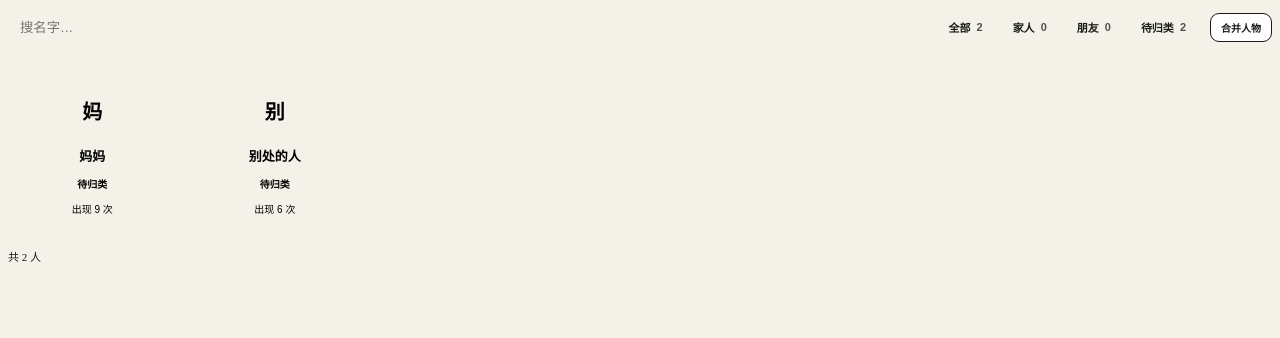
Test case: 名录批量合并 › 跨相册的人不能一起合并
What coordinates should you click on to do the following:
click the button "合并人物"
I would click on:
 (1241, 27)
Its box is left=1210, top=12, right=1272, bottom=42.
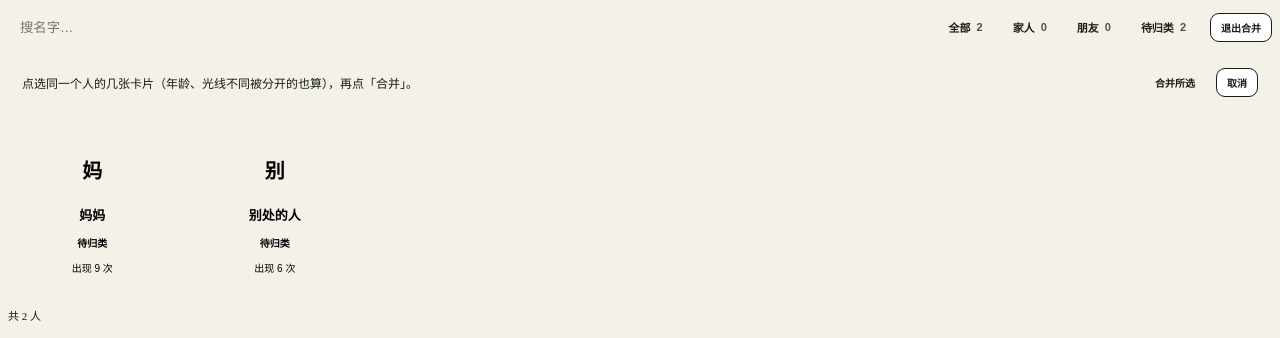
What coordinates should you click on to do the following:
click the button "妈 妈妈 待归类 出现 9 次"
I would click on:
 (92, 208)
Its box is left=8, top=123, right=177, bottom=293.
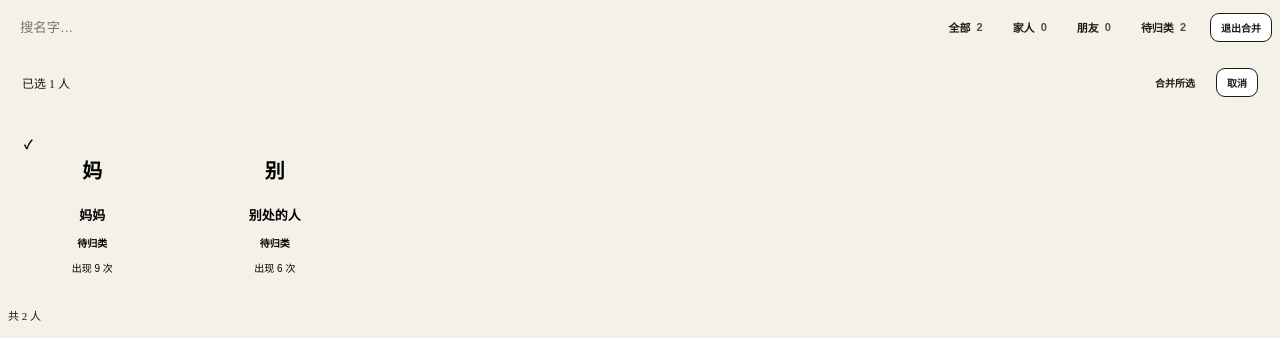
What coordinates should you click on to do the following:
click the button "别 别处的人 待归类 出现 6 次"
I would click on:
 (275, 208)
Its box is left=191, top=123, right=359, bottom=293.
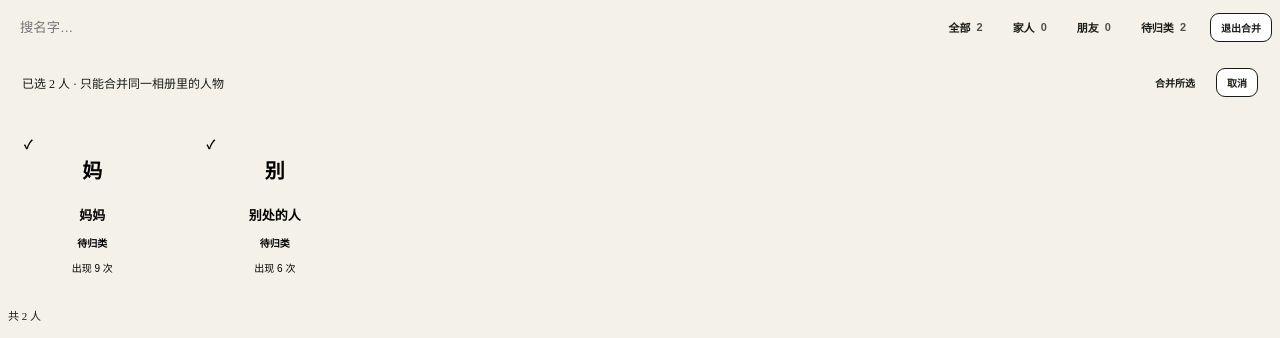
Result: the button "合并所选" is disabled at left=1144, top=68, right=1206, bottom=97
Result: the element named "合并人物" shows "只能合并同一相册里的人物" at left=70, top=76, right=224, bottom=90
